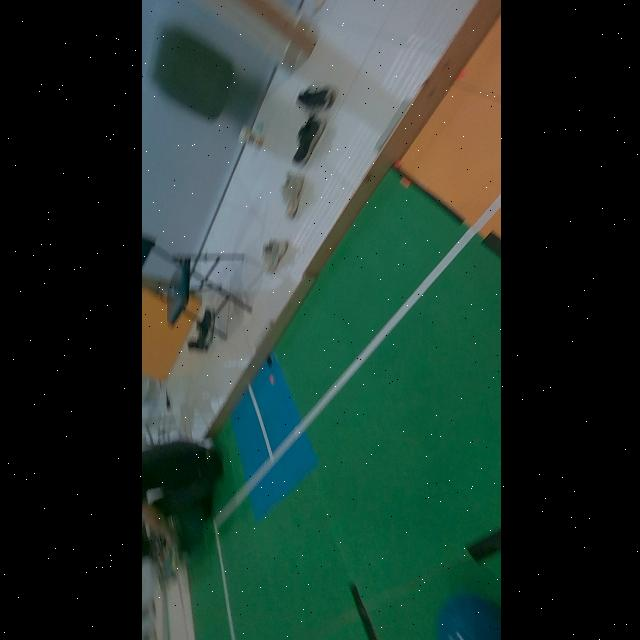B: (436, 594, 500, 640)
